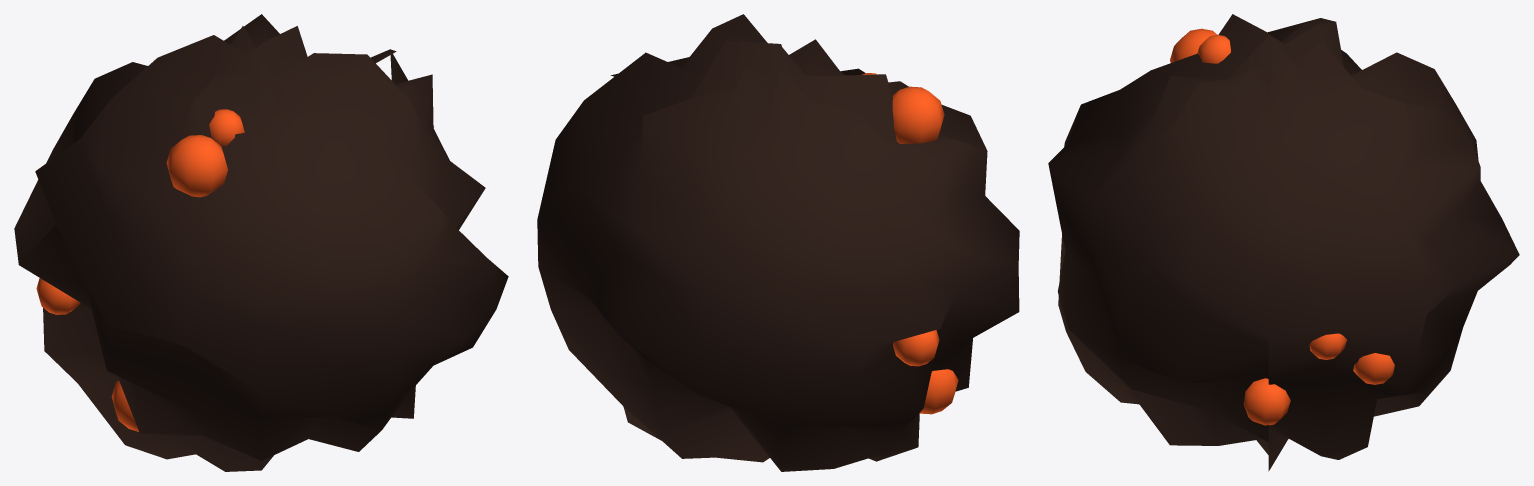
The model's file is lava_rock.glb.
3 renders of one model, left to right at view 1: azimuth 30°, elevation 25°; view 2: azimuth 150°, elevation 25°; view 3: azimuth 270°, elevation 25°, orthographic.
Parts seen in each view (by area): view 1: lava_rock; view 2: lava_rock; view 3: lava_rock.
Part boxes in pixels (box(x1,y1,x2,y2)): lava_rock: box(14, 14, 508, 471); lava_rock: box(537, 14, 1019, 471); lava_rock: box(1048, 14, 1519, 471).
Bounding box in the file's own units: 0.7725 × 0.7286 × 0.7735.
